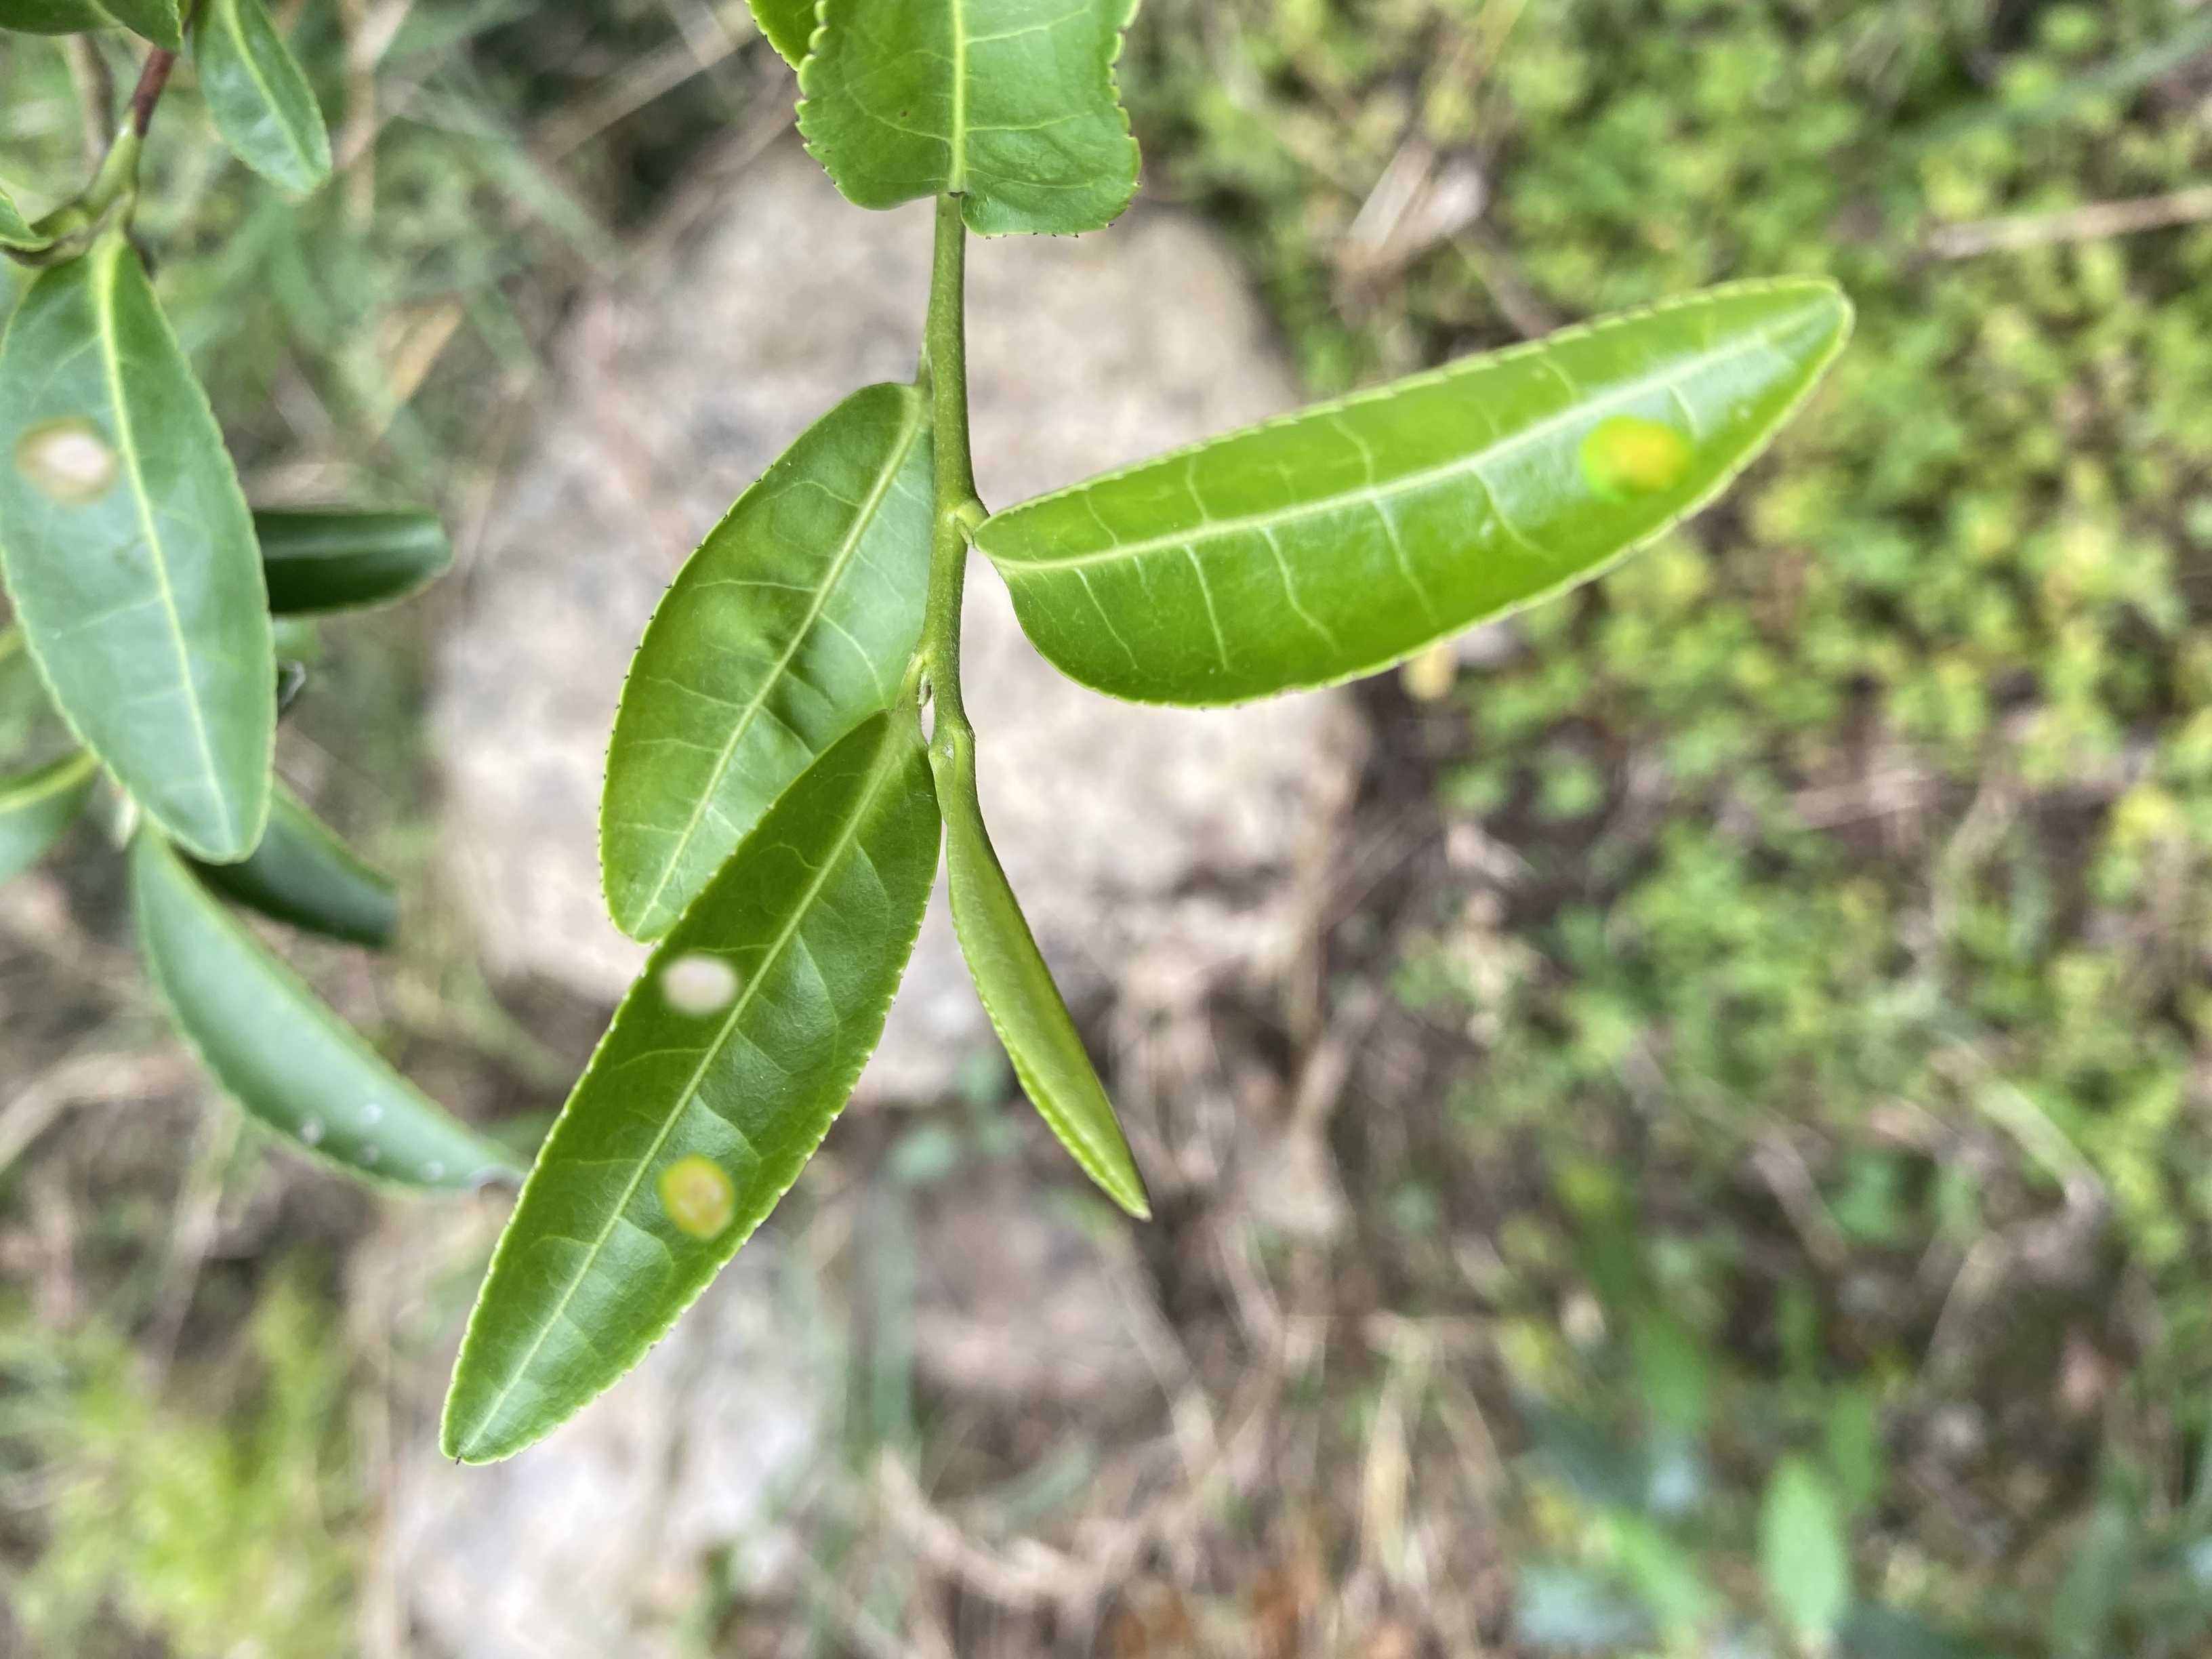chabing_high: (435, 702, 956, 1466)
chabing_low: (975, 272, 1851, 706), (2, 234, 284, 863)
healthy: (603, 375, 937, 939), (192, 5, 338, 199)
tanju_low: (127, 829, 540, 1199)
